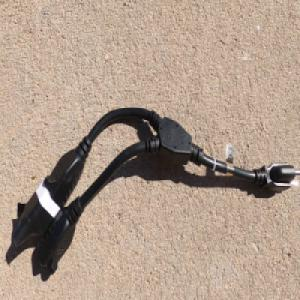Wire: (11, 105, 300, 276)
